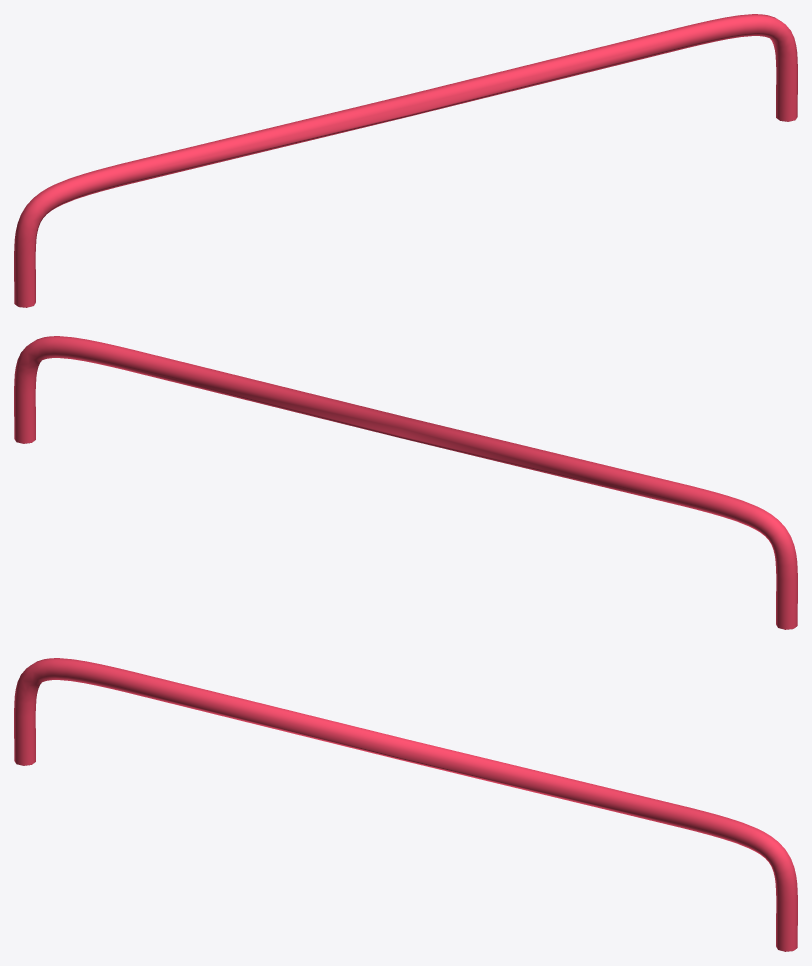
The model's file is Obstacle.fbx.
3 views of the same model, one above another, from view 1: azimuth 30°, elevation 25°; view 2: azimuth 150°, elevation 25°; view 3: azimuth 330°, elevation 25° (orthographic).
Parts seen in each view (by area): view 1: Cylinder; view 2: Cylinder; view 3: Cylinder.
Part boxes in pixels (<box>): Cylinder: <box>14,14,797,307</box>; Cylinder: <box>14,336,797,629</box>; Cylinder: <box>14,658,797,951</box>.
Bounding box in the file's own units: 1363 × 191 × 30.66.
